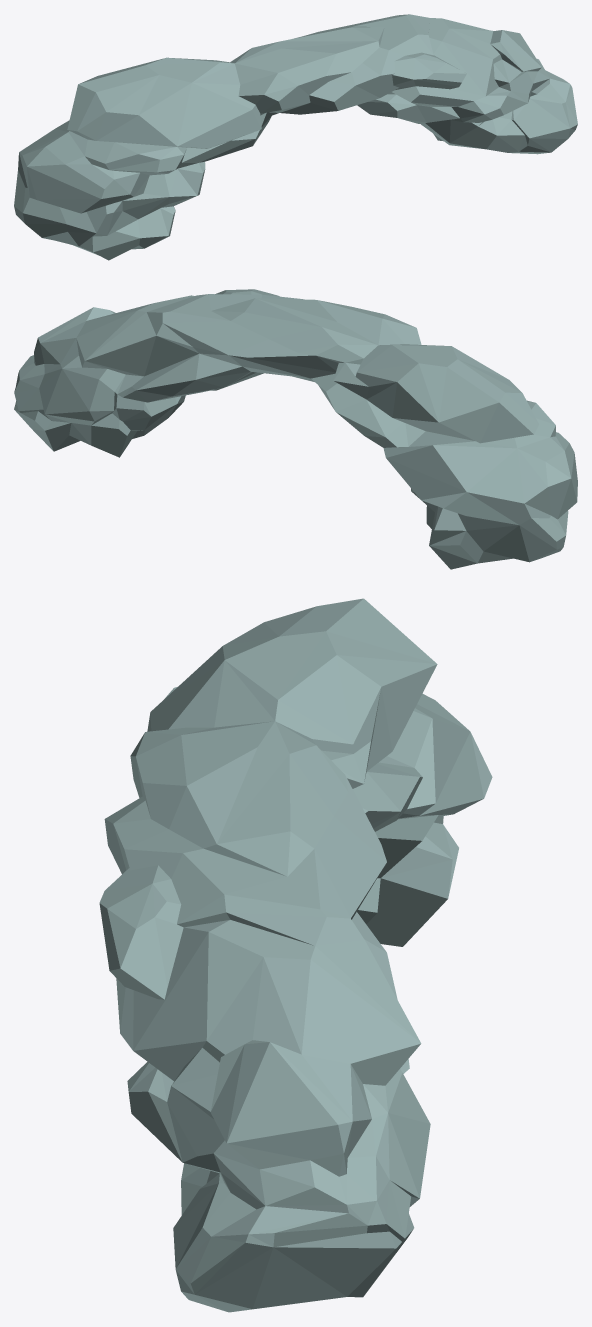
Rendered from Rock_Bridge.fbx.
3 views of the same model, one above another, from view 1: azimuth 30°, elevation 25°; view 2: azimuth 150°, elevation 25°; view 3: azimuth 270°, elevation 25° (orthographic). The views are drawn at different scales.
Visible parts, largest first — view 1: group9_polySurface27; view 2: group9_polySurface27; view 3: group9_polySurface27.
Part boxes in pixels (<box>): group9_polySurface27: <box>14,14,577,260</box>; group9_polySurface27: <box>14,289,577,569</box>; group9_polySurface27: <box>99,598,492,1312</box>.
Size of the model in its own units: 15560 by 4857 by 5056.
